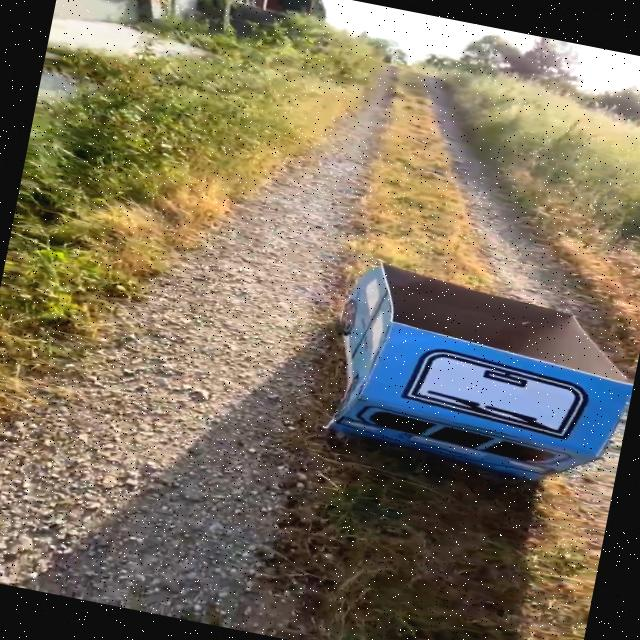blue_car: (207, 215, 640, 521)
